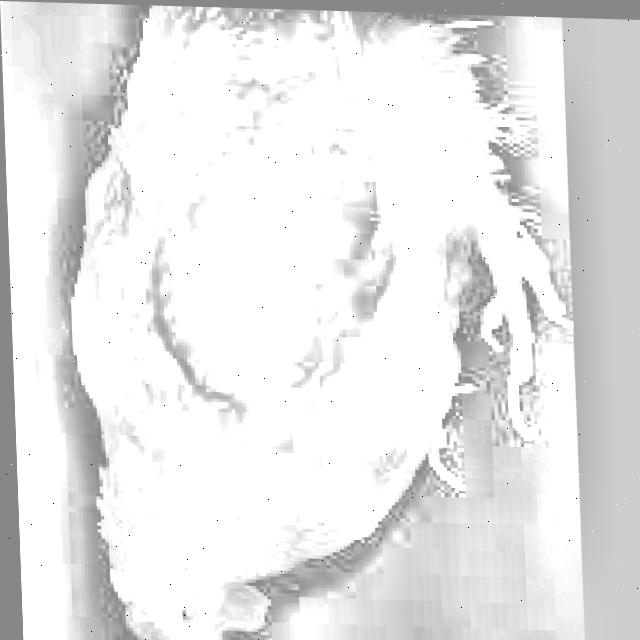Newcastle: (85, 479, 285, 640)
